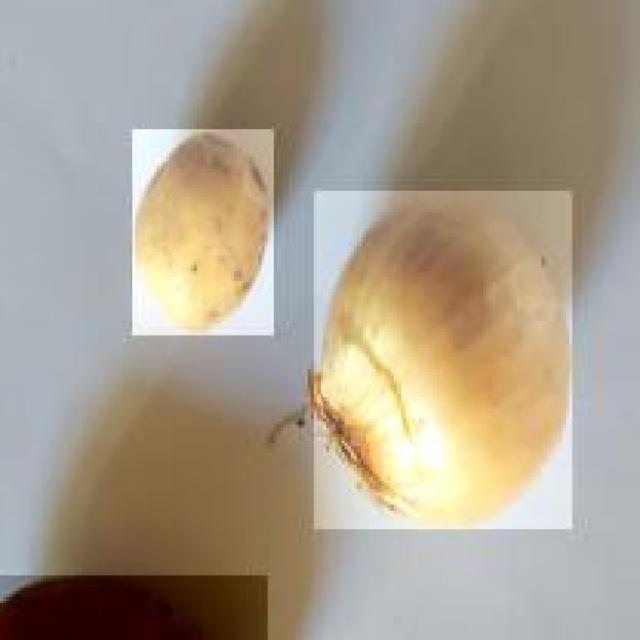onion: (312, 191, 574, 532)
potato: (129, 130, 274, 338)
